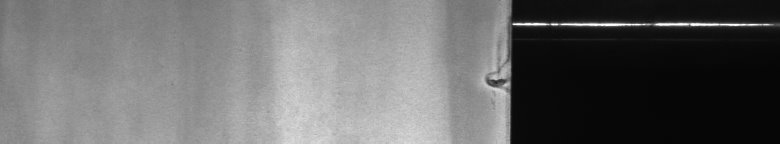hb: (479, 36, 500, 109)
